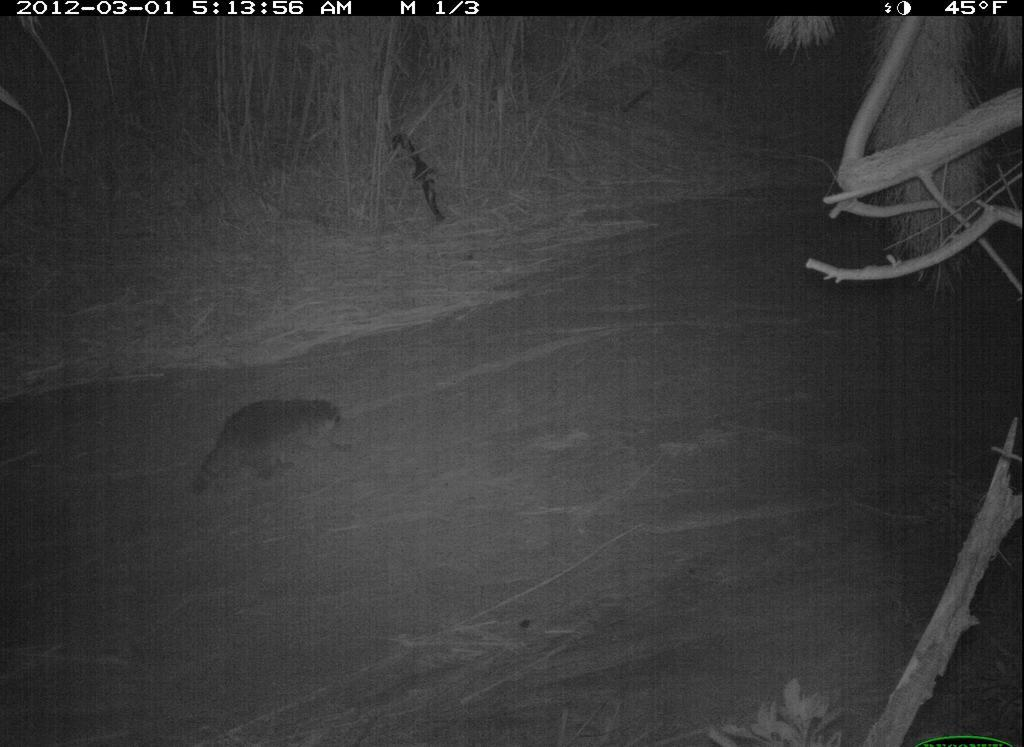raccoon: (184, 391, 361, 510)
